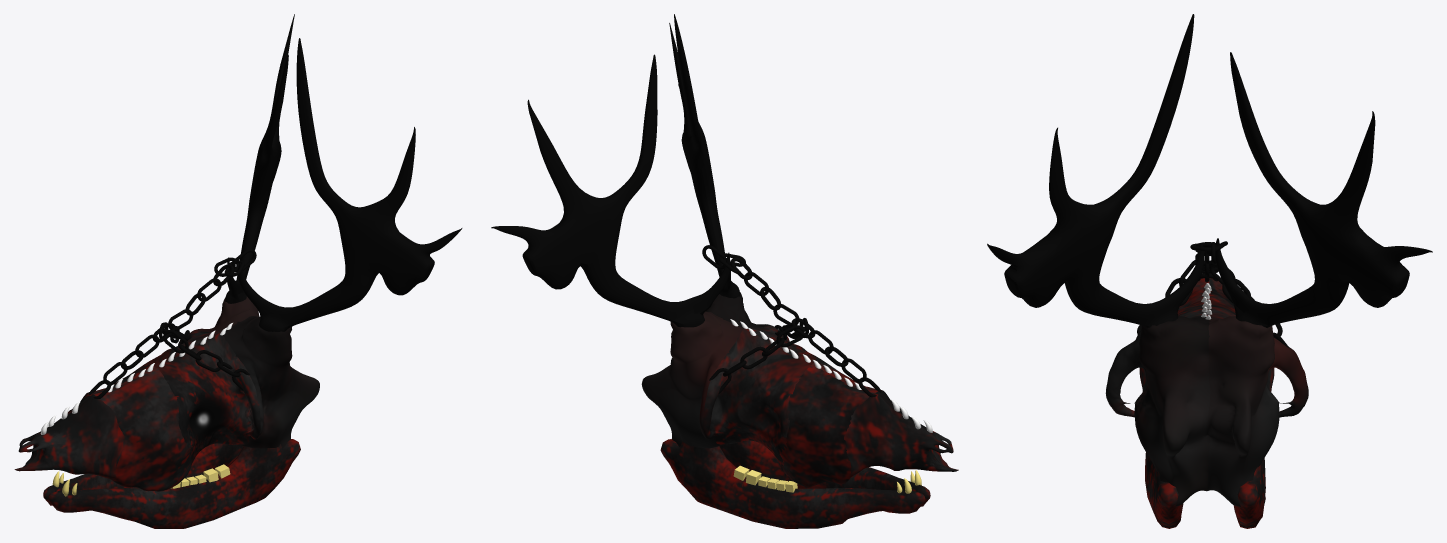
File: Boss.fbx
3 views of the same model, side by side, from view 1: azimuth 30°, elevation 25°; view 2: azimuth 150°, elevation 25°; view 3: azimuth 270°, elevation 25° (orthographic). The views are drawn at different scales.
Parts seen in each view (by area): view 1: sKULL, Antlers, jAW, Chains, Teeth, Horns; view 2: sKULL, Antlers, jAW, Chains, Teeth, Horns; view 3: Antlers, sKULL, jAW, Chains.
Part boxes in pixels (<box>): sKULL: <box>14,296,319,491</box>; Antlers: <box>225,14,462,331</box>; jAW: <box>43,439,300,528</box>; Chains: <box>89,249,256,398</box>; Teeth: <box>52,464,230,496</box>; Horns: <box>48,323,232,426</box>; sKULL: <box>641,292,958,487</box>; Antlers: <box>491,14,740,327</box>; jAW: <box>660,439,930,528</box>; Chains: <box>702,245,881,397</box>; Teeth: <box>733,465,921,493</box>; Horns: <box>730,319,921,429</box>; Antlers: <box>987,14,1432,328</box>; sKULL: <box>1105,278,1308,506</box>; jAW: <box>1145,452,1265,528</box>; Chains: <box>1135,241,1289,348</box>.
Size of the model in its own units: 1350 by 1599 by 1178.
